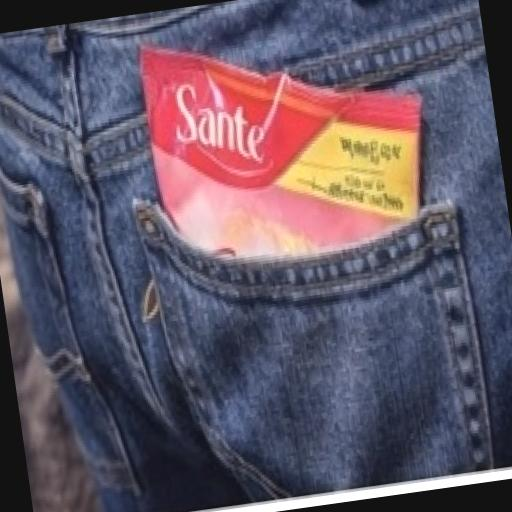granola: (118, 0, 455, 370)
